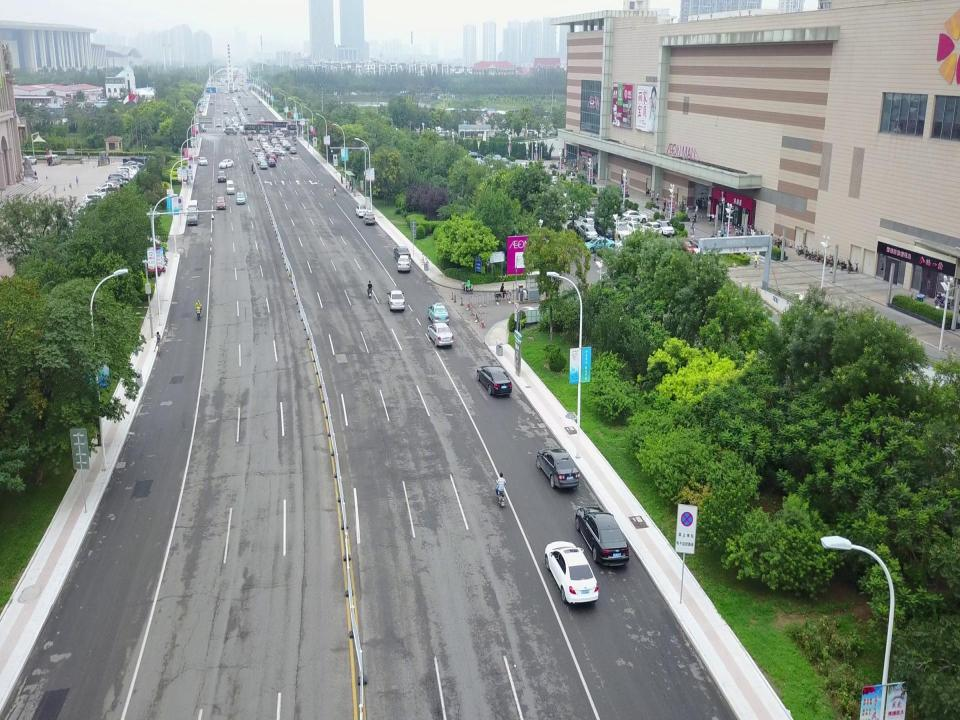bus: (286, 124, 319, 136), (260, 119, 290, 132), (243, 122, 273, 134)
car: (575, 506, 630, 568), (545, 541, 599, 604), (536, 447, 580, 488), (476, 366, 510, 396), (428, 323, 454, 347), (584, 234, 616, 253), (427, 301, 448, 325), (609, 242, 633, 262), (578, 222, 598, 241), (387, 290, 405, 311), (678, 238, 700, 255), (626, 220, 646, 238), (561, 200, 579, 220), (622, 210, 648, 223), (656, 218, 674, 236), (566, 220, 586, 236), (642, 221, 662, 237), (581, 217, 599, 233), (614, 225, 632, 240), (578, 203, 596, 218), (184, 207, 198, 226), (394, 246, 410, 261), (397, 255, 411, 271), (21, 155, 37, 166), (356, 204, 368, 218), (464, 152, 484, 160), (363, 212, 375, 225), (215, 197, 226, 210), (236, 191, 246, 205), (219, 159, 234, 168), (216, 170, 227, 182), (270, 148, 286, 156), (498, 128, 512, 136), (548, 176, 560, 185), (193, 126, 207, 133), (266, 151, 278, 159), (198, 156, 208, 165), (256, 156, 266, 165), (526, 129, 538, 136), (547, 130, 561, 136), (539, 129, 551, 135), (259, 161, 267, 169), (268, 158, 276, 166), (268, 155, 276, 162), (289, 147, 297, 154), (285, 143, 292, 151), (257, 153, 265, 159), (252, 146, 258, 154), (247, 134, 253, 141), (259, 117, 264, 122), (216, 123, 221, 127), (223, 109, 227, 114), (247, 110, 251, 115), (209, 100, 213, 104), (244, 106, 248, 110), (226, 96, 229, 100)
van: (593, 218, 617, 240), (186, 200, 198, 218), (44, 154, 61, 165), (225, 180, 235, 195), (225, 127, 237, 136), (254, 148, 262, 157)
